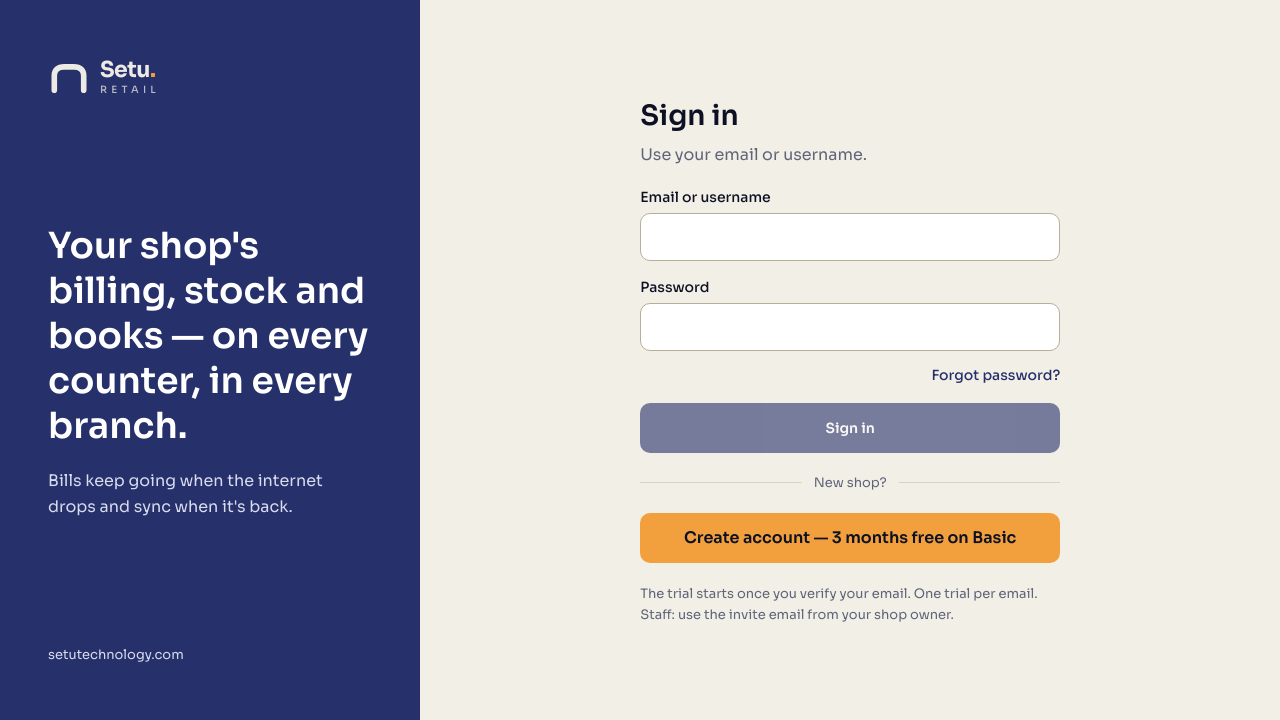
Test: signing in › sends a signed-out visitor to sign in, then to where they were going
Expected: the heading "Sign in" is shown, [640,98,739,133]
Type "anil" into the field labelled "Email or username".
click(850, 237); type("anil")  # box [640,213,1060,261]
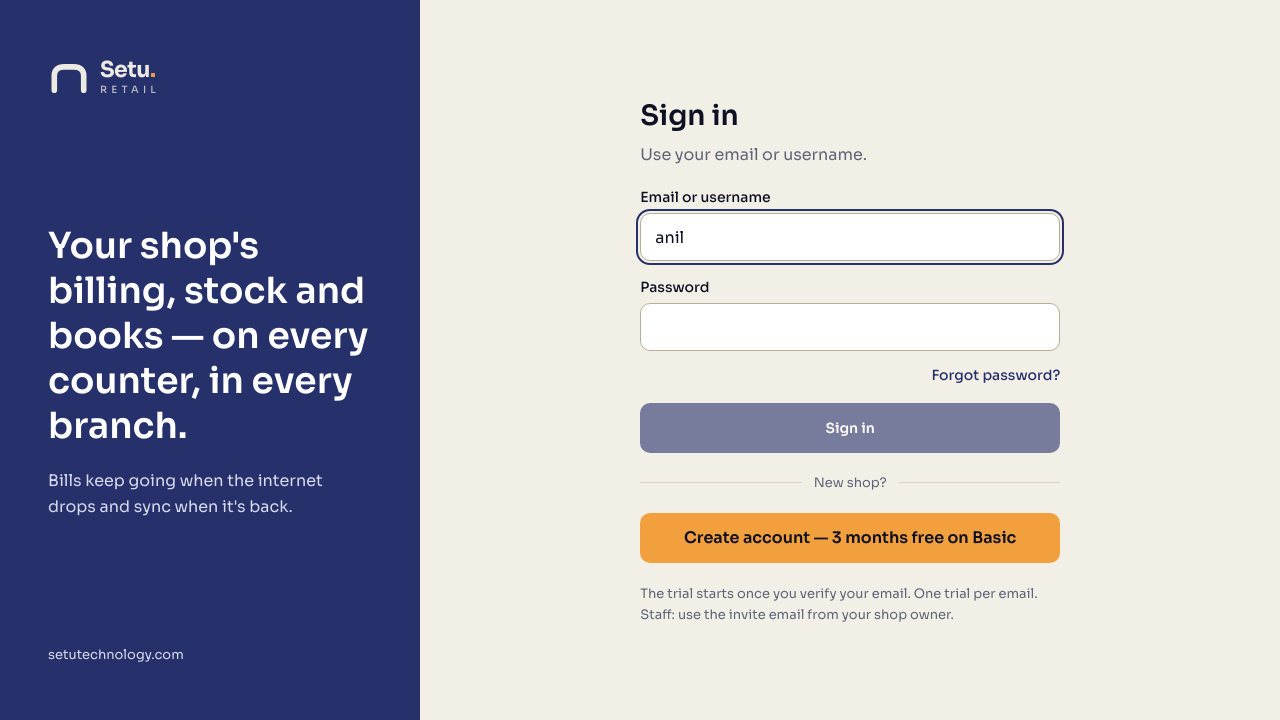
Type "s3cret-pass" into the password field labelled "Password".
click(850, 327); type("s3cret-pass")  # box [640,303,1060,351]
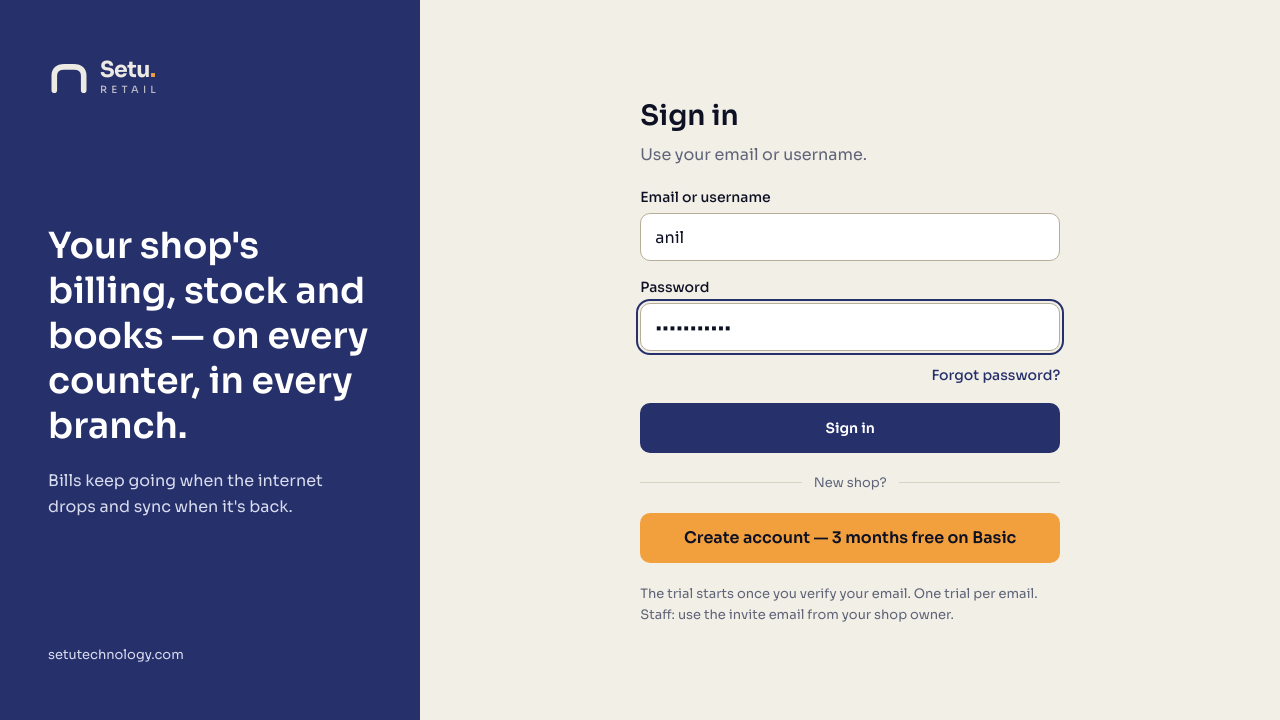
Click the button "Sign in".
click(850, 428)  # box [640,403,1060,453]
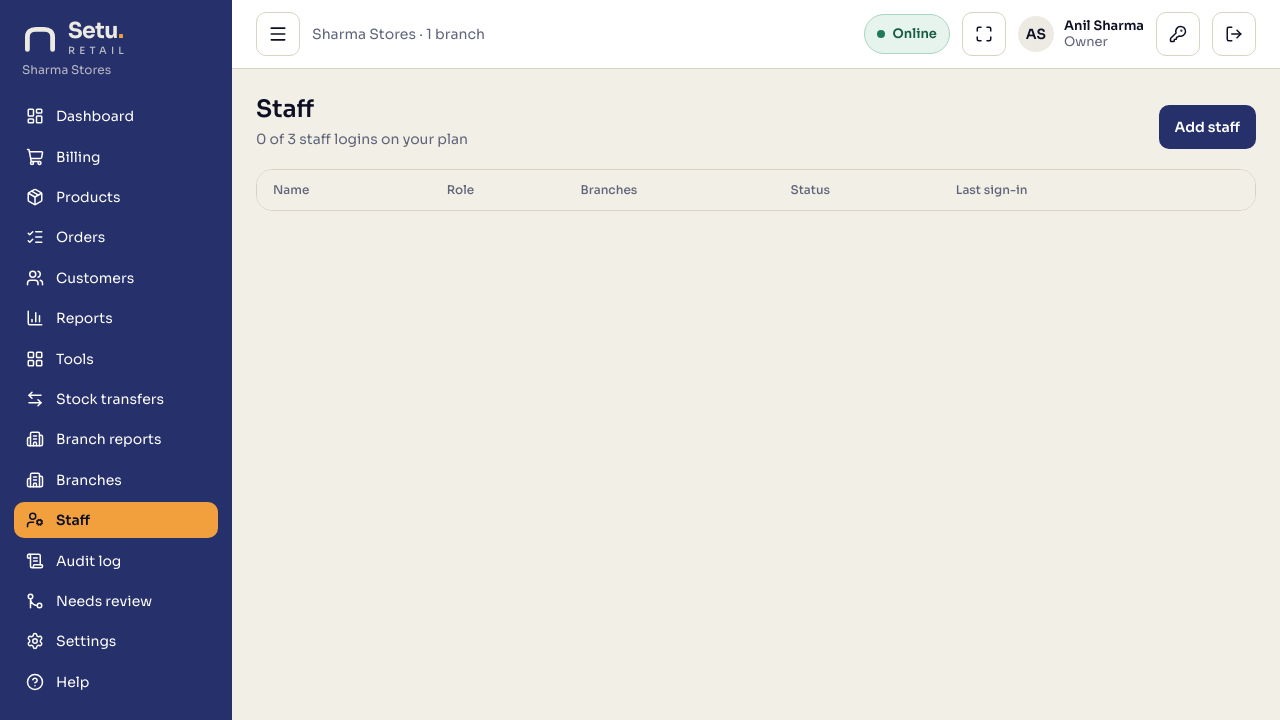
Now the heading "Staff" is shown, box [256,94,314,124]
